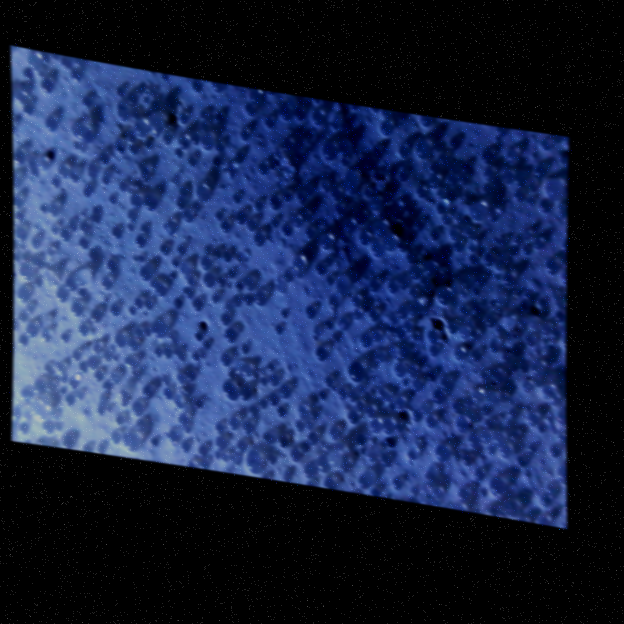GrassBeadSeg: (47, 95, 497, 420), (244, 128, 549, 504), (68, 170, 412, 495), (62, 163, 463, 431), (56, 172, 525, 396), (75, 148, 488, 399), (96, 151, 400, 487), (49, 177, 395, 461), (187, 155, 541, 431), (41, 171, 406, 432), (268, 115, 526, 465), (85, 186, 529, 387), (133, 120, 418, 413), (72, 180, 471, 379), (149, 193, 506, 415), (58, 111, 348, 381), (112, 139, 380, 431), (152, 164, 538, 357), (174, 243, 521, 454), (66, 185, 424, 388), (18, 263, 385, 454), (106, 176, 516, 346), (122, 271, 512, 449), (120, 104, 412, 332), (124, 208, 459, 406), (196, 132, 420, 421), (101, 194, 381, 417), (138, 265, 479, 447), (239, 260, 503, 495), (77, 221, 405, 408), (212, 209, 436, 478), (225, 202, 485, 430), (24, 305, 493, 430), (326, 172, 524, 464), (237, 128, 434, 418), (291, 106, 467, 427), (343, 172, 546, 440), (197, 256, 473, 447), (318, 180, 517, 440), (164, 132, 411, 338), (54, 285, 530, 391), (54, 197, 550, 295), (126, 142, 405, 316), (124, 222, 373, 416), (203, 307, 542, 447), (23, 103, 194, 380), (284, 105, 450, 390), (80, 231, 405, 372), (161, 185, 424, 359), (120, 140, 271, 443), (186, 144, 485, 297), (170, 296, 447, 459), (46, 115, 480, 219), (193, 240, 456, 409), (279, 257, 557, 416), (32, 285, 465, 385), (37, 157, 521, 245), (123, 297, 546, 396), (106, 225, 309, 431), (94, 286, 417, 413), (139, 304, 467, 427), (233, 232, 415, 452), (313, 236, 534, 416), (248, 102, 492, 265), (289, 269, 477, 480), (153, 283, 379, 457), (43, 115, 251, 304), (352, 188, 523, 412), (185, 216, 355, 441), (221, 164, 543, 282), (299, 208, 542, 364), (126, 106, 303, 316), (65, 138, 429, 239), (74, 389, 416, 496), (214, 275, 414, 457), (141, 193, 274, 462), (345, 258, 557, 423), (316, 321, 545, 471), (106, 344, 375, 471), (92, 369, 470, 458), (68, 170, 475, 252), (441, 178, 561, 443), (326, 319, 552, 453), (69, 300, 301, 430), (190, 79, 506, 174), (70, 218, 276, 360), (209, 156, 416, 297), (154, 348, 473, 437), (32, 379, 485, 441), (75, 195, 272, 336), (249, 188, 523, 288), (261, 115, 461, 251), (208, 271, 437, 389), (257, 375, 480, 496), (133, 418, 485, 494), (231, 190, 332, 448), (461, 154, 564, 405), (219, 380, 558, 456), (52, 369, 480, 429), (31, 237, 543, 287), (12, 255, 176, 411), (79, 324, 469, 389), (176, 311, 397, 425), (197, 108, 322, 308), (140, 333, 530, 397), (244, 180, 329, 471), (195, 214, 297, 455), (243, 216, 438, 342), (168, 257, 288, 453), (133, 234, 251, 433), (357, 284, 478, 477), (227, 141, 336, 355), (243, 102, 340, 342), (309, 262, 420, 468), (262, 219, 385, 404), (197, 255, 317, 443), (267, 216, 364, 444), (79, 95, 166, 348), (200, 108, 323, 285), (184, 155, 277, 386), (422, 321, 551, 483), (201, 184, 396, 291), (297, 137, 550, 219), (257, 333, 533, 407), (222, 293, 360, 437), (30, 323, 331, 387), (21, 69, 80, 389), (10, 89, 259, 164), (139, 234, 224, 447), (295, 328, 434, 458), (113, 292, 248, 424), (336, 232, 501, 337), (378, 324, 498, 467), (369, 207, 497, 340), (130, 166, 493, 211), (278, 221, 358, 422), (159, 263, 238, 465), (273, 405, 483, 480), (337, 139, 549, 211), (208, 291, 296, 460), (251, 198, 476, 263), (22, 245, 133, 375), (159, 132, 249, 289), (172, 147, 259, 305), (229, 120, 391, 203), (226, 261, 324, 398), (117, 370, 486, 405), (100, 120, 383, 162), (147, 387, 346, 446), (80, 186, 186, 296), (232, 415, 504, 457), (188, 232, 332, 309), (110, 373, 236, 459), (75, 195, 279, 248), (233, 366, 389, 434), (85, 168, 190, 269), (300, 293, 357, 476), (91, 308, 196, 407), (251, 89, 376, 171), (41, 68, 167, 149), (171, 219, 247, 353), (16, 404, 374, 432), (419, 276, 471, 466), (47, 78, 188, 147), (8, 226, 58, 419), (198, 132, 342, 199), (328, 174, 438, 261), (179, 208, 247, 346), (142, 294, 531, 318), (272, 125, 498, 166), (58, 332, 273, 375), (321, 389, 544, 430), (255, 161, 362, 243), (418, 315, 536, 387), (218, 277, 396, 324), (160, 296, 239, 398), (37, 275, 165, 336), (38, 77, 89, 230), (195, 350, 305, 417), (419, 113, 517, 187), (258, 198, 286, 448), (333, 120, 402, 221), (99, 169, 511, 185), (21, 68, 51, 286), (103, 277, 151, 411), (330, 330, 371, 486), (76, 194, 115, 357), (105, 259, 238, 306), (154, 98, 237, 173), (363, 229, 405, 376), (132, 352, 229, 415), (420, 258, 479, 361), (309, 274, 401, 340), (134, 143, 222, 211), (369, 396, 502, 440), (10, 198, 74, 289), (187, 361, 272, 429), (237, 361, 285, 480), (100, 339, 208, 391), (55, 104, 127, 182), (218, 219, 383, 252), (302, 284, 451, 318), (491, 434, 552, 516), (69, 275, 110, 393), (177, 296, 326, 328), (376, 328, 412, 459), (189, 131, 549, 144), (149, 329, 246, 377), (429, 258, 459, 413), (250, 229, 309, 305), (326, 307, 361, 435), (288, 213, 307, 447), (58, 221, 289, 240), (437, 448, 509, 507), (116, 184, 209, 229), (280, 174, 438, 200), (31, 210, 100, 269), (88, 307, 378, 321), (367, 369, 435, 428), (423, 413, 510, 458), (250, 217, 283, 334), (62, 392, 137, 443), (521, 202, 559, 300), (157, 239, 380, 255), (260, 254, 331, 303), (280, 268, 302, 425), (187, 385, 233, 460), (127, 192, 245, 221), (180, 185, 335, 207), (107, 350, 196, 388), (18, 52, 49, 159), (175, 111, 186, 412), (301, 386, 376, 430), (28, 166, 94, 216), (469, 302, 557, 339), (162, 191, 239, 233), (338, 155, 397, 209), (106, 302, 135, 411), (179, 208, 192, 451), (19, 387, 71, 447), (100, 298, 151, 359), (390, 403, 487, 435), (401, 163, 432, 263), (303, 420, 348, 487), (460, 252, 472, 501), (472, 275, 557, 310), (32, 246, 229, 261), (397, 159, 416, 314), (489, 407, 557, 450), (516, 363, 564, 423), (341, 274, 442, 302), (57, 142, 137, 177), (62, 211, 100, 284), (47, 223, 84, 296), (448, 271, 500, 321), (480, 183, 565, 213), (278, 273, 332, 319), (499, 124, 564, 162), (507, 385, 551, 441), (104, 279, 119, 443), (17, 166, 46, 250), (392, 331, 416, 430), (405, 366, 488, 394), (399, 274, 419, 389), (167, 243, 227, 278), (12, 203, 56, 249), (16, 328, 50, 387), (197, 120, 242, 163), (64, 57, 119, 91), (399, 377, 480, 400), (330, 274, 341, 440), (40, 343, 99, 373), (367, 187, 411, 227), (13, 198, 72, 227), (221, 219, 235, 341), (297, 389, 325, 450), (397, 302, 411, 424), (412, 162, 437, 230), (229, 316, 348, 330), (165, 347, 183, 439), (181, 423, 225, 460), (107, 296, 148, 335), (521, 402, 563, 440), (27, 405, 71, 441), (366, 333, 437, 355), (342, 307, 363, 381), (14, 286, 43, 339), (109, 191, 140, 238), (209, 246, 241, 291), (347, 390, 422, 409), (438, 137, 454, 225), (521, 288, 562, 322), (220, 153, 297, 171), (444, 150, 459, 240), (68, 237, 87, 308), (284, 460, 348, 481), (21, 363, 44, 421), (343, 155, 374, 198), (359, 277, 378, 346), (338, 107, 388, 132), (416, 228, 437, 284), (85, 355, 108, 404), (375, 370, 416, 396), (129, 169, 148, 225), (168, 385, 187, 440), (417, 188, 443, 228), (541, 290, 557, 353), (185, 351, 203, 405), (102, 295, 116, 360), (411, 437, 427, 493), (378, 108, 430, 125), (17, 54, 38, 96), (125, 296, 141, 351), (27, 56, 66, 78), (495, 224, 529, 248), (370, 159, 407, 181), (172, 330, 200, 359), (46, 203, 75, 231), (373, 350, 403, 377), (55, 364, 135, 374), (396, 202, 412, 251), (204, 108, 222, 150), (131, 277, 157, 306), (381, 323, 392, 390), (268, 150, 292, 178), (221, 267, 236, 311), (445, 321, 475, 341), (521, 343, 543, 369), (435, 150, 469, 166), (127, 100, 154, 120), (123, 88, 149, 108), (413, 402, 427, 439), (12, 67, 26, 102), (462, 226, 502, 238), (134, 223, 146, 263), (113, 83, 145, 98), (523, 194, 534, 235), (445, 139, 458, 173), (165, 404, 179, 434), (165, 330, 198, 342), (131, 327, 170, 337), (35, 235, 53, 256), (15, 302, 32, 323), (452, 213, 469, 231), (484, 434, 499, 454), (389, 331, 417, 341), (444, 163, 456, 185), (328, 117, 348, 130), (424, 483, 440, 498), (197, 108, 207, 132), (276, 104, 291, 119), (140, 83, 155, 98), (429, 389, 444, 403), (483, 395, 493, 416), (233, 363, 250, 375), (549, 289, 560, 307), (211, 448, 233, 457), (384, 322, 393, 344), (451, 173, 466, 185), (433, 202, 443, 219), (479, 150, 492, 163), (402, 203, 412, 219), (24, 323, 36, 336), (382, 434, 394, 447), (458, 161, 470, 173), (20, 103, 32, 114), (482, 403, 488, 423), (482, 416, 492, 427), (180, 401, 188, 411)
